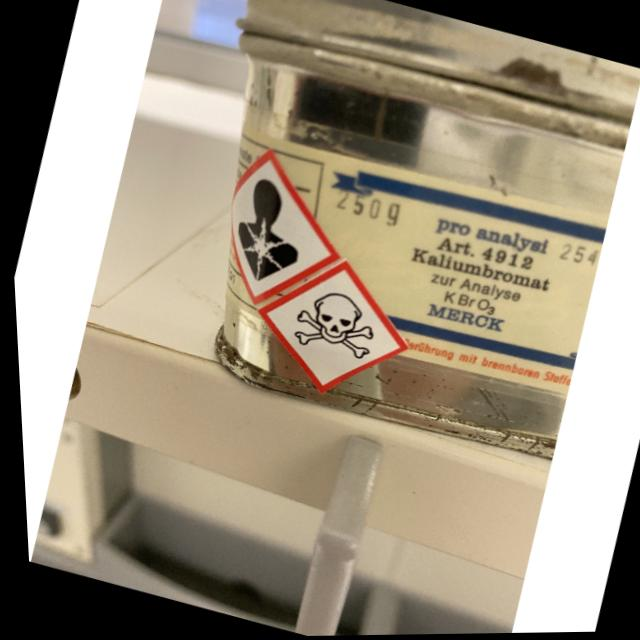acute toxicity: (285, 283, 380, 363)
serious health hazard: (221, 174, 314, 291)
